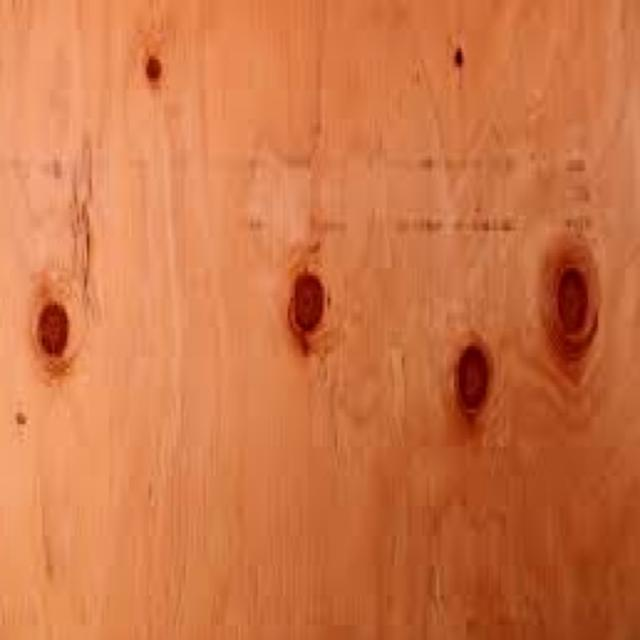have-wooden-eyes: (558, 268, 587, 333), (459, 346, 487, 407), (38, 302, 69, 355), (295, 274, 323, 329), (145, 54, 162, 83)
